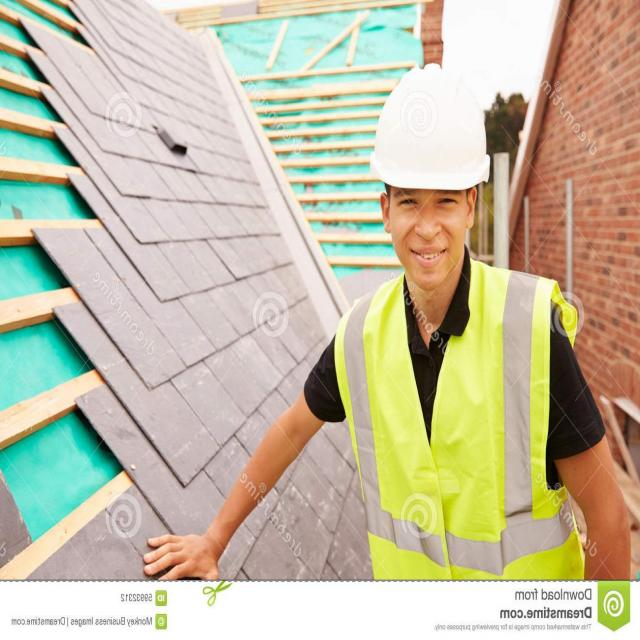Reflective-Jacket: (332, 269, 580, 578)
Safety-Helmet: (365, 59, 493, 192)
